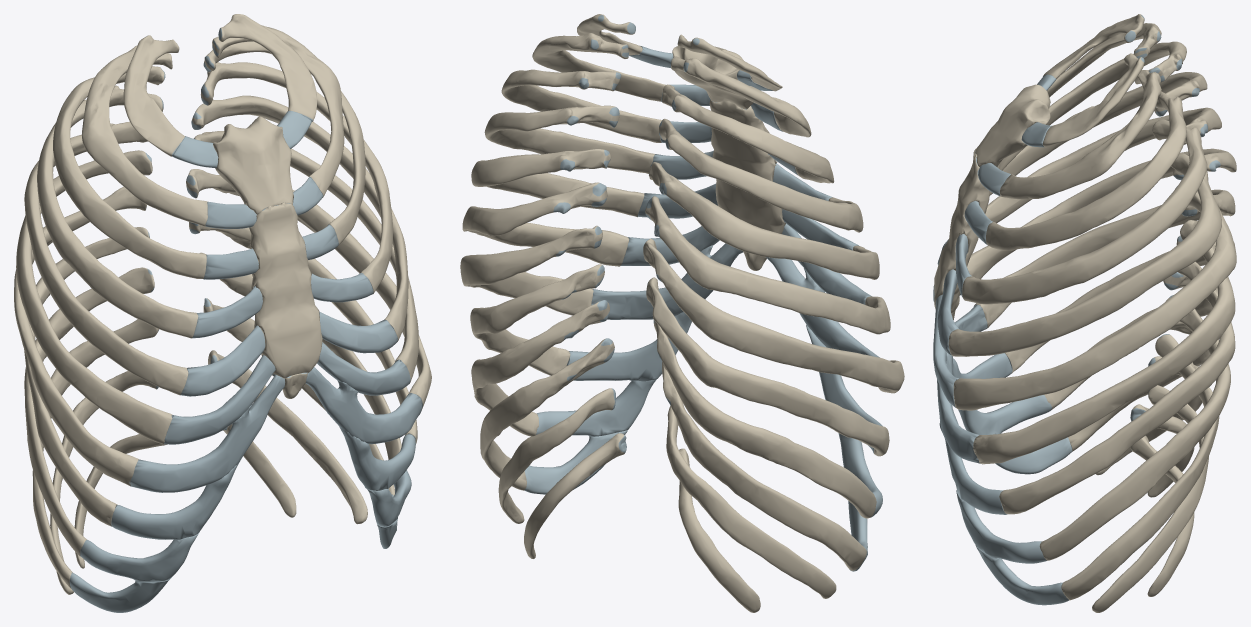
The model's file is bones-thorax.glb.
3 views of the same model, side by side, from view 1: azimuth 30°, elevation 25°; view 2: azimuth 150°, elevation 25°; view 3: azimuth 270°, elevation 25° (orthographic). The views are drawn at different scales.
Visible parts, largest first — view 1: bone-body-of-sternum, bone-sixth-rib-r, bone-fourth-rib-r, bone-fifth-rib-r, bone-third-rib-r, bone-second-rib-r, bone-manubrium-of-sternum, bone-seventh-rib-r, bone-costal-cartilage-of-seventh-rib-r, bone-fifth-rib-l, bone-ninth-rib-r, bone-eighth-rib-r (+33 smaller); view 2: bone-seventh-rib-r, bone-sixth-rib-r, bone-eighth-rib-r, bone-ninth-rib-r, bone-fifth-rib-r, bone-tenth-rib-r, bone-sixth-rib-l, bone-fifth-rib-l, bone-fourth-rib-l, bone-seventh-rib-l, bone-eleventh-rib-r, bone-fourth-rib-r (+29 smaller); view 3: bone-sixth-rib-l, bone-fifth-rib-l, bone-seventh-rib-l, bone-fourth-rib-l, bone-eighth-rib-l, bone-ninth-rib-l, bone-third-rib-l, bone-tenth-rib-l, bone-second-rib-l, bone-seventh-rib-r, bone-eleventh-rib-l, bone-sixth-rib-r (+28 smaller).
Part boxes in pixels (x1,y1,x2,y2): bone-body-of-sternum: (249, 202, 322, 378); bone-sixth-rib-r: (16, 150, 172, 444); bone-fourth-rib-r: (37, 85, 198, 338); bone-fifth-rib-r: (24, 121, 188, 395); bone-third-rib-r: (53, 66, 206, 278); bone-second-rib-r: (81, 45, 207, 226); bone-manubrium-of-sternum: (213, 116, 293, 214); bone-seventh-rib-r: (14, 186, 146, 486); bone-costal-cartilage-of-seventh-rib-r: (129, 374, 285, 492); bone-fifth-rib-l: (191, 95, 408, 341); bone-ninth-rib-r: (24, 267, 154, 556); bone-eighth-rib-r: (24, 227, 149, 526); bone-seventh-rib-r: (643, 238, 904, 393); bone-sixth-rib-r: (645, 196, 890, 334); bone-eighth-rib-r: (646, 277, 889, 456); bone-ninth-rib-r: (653, 320, 876, 518); bone-fifth-rib-r: (649, 162, 879, 279); bone-tenth-rib-r: (662, 362, 866, 570); bone-sixth-rib-l: (462, 182, 629, 266); bone-fifth-rib-l: (471, 149, 644, 217); bone-fourth-rib-l: (484, 105, 654, 173); bone-seventh-rib-l: (460, 225, 602, 315); bone-eleventh-rib-r: (666, 405, 836, 598); bone-fourth-rib-r: (659, 118, 863, 232); bone-sixth-rib-l: (953, 186, 1236, 410); bone-fifth-rib-l: (948, 153, 1221, 356); bone-seventh-rib-l: (973, 220, 1235, 464); bone-fourth-rib-l: (962, 119, 1207, 304); bone-eighth-rib-l: (999, 261, 1235, 514); bone-ninth-rib-l: (1039, 295, 1230, 560); bone-third-rib-l: (986, 91, 1186, 250); bone-tenth-rib-l: (1061, 334, 1219, 600); bone-second-rib-l: (1000, 70, 1161, 199); bone-seventh-rib-r: (974, 189, 1235, 328); bone-eleventh-rib-l: (1092, 385, 1208, 612); bone-sixth-rib-r: (967, 148, 1236, 279).
Size of the model in its own units: 0.2832 by 0.39 by 0.2102.
